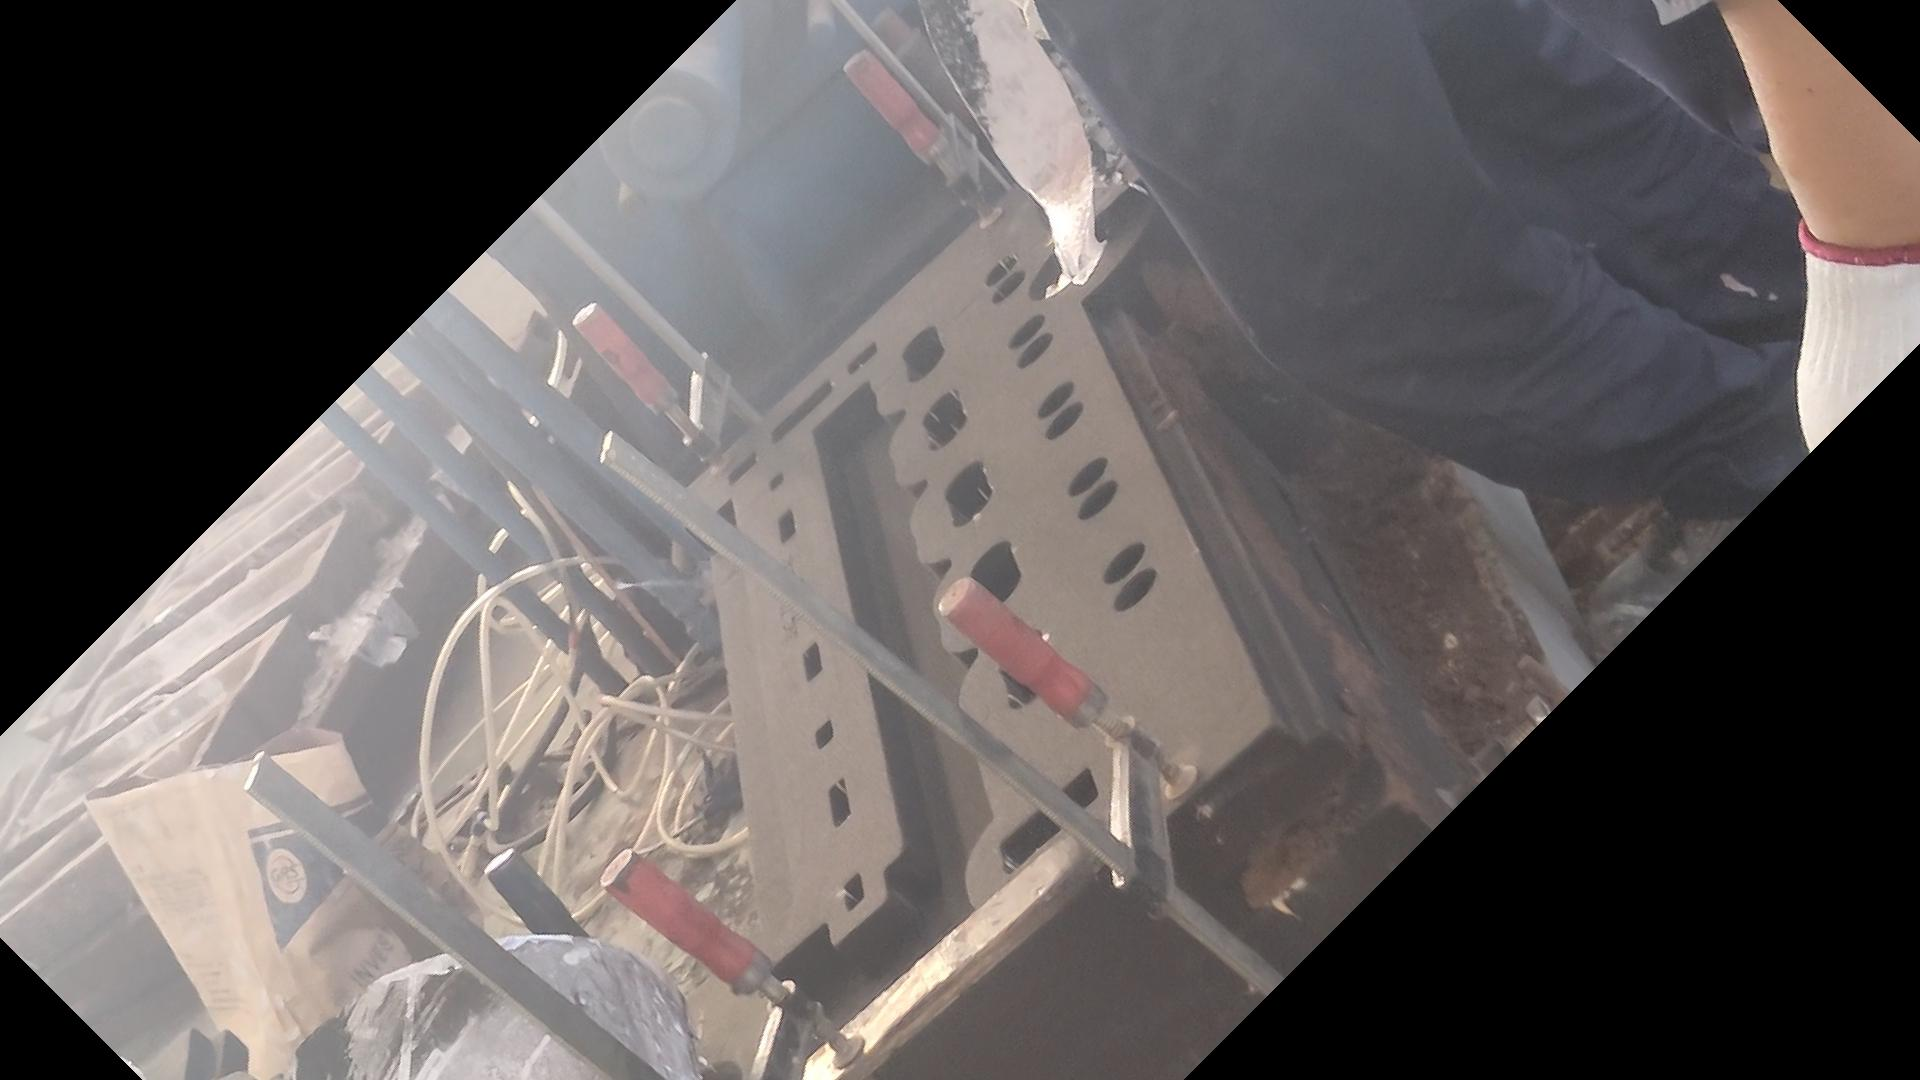pouring hole: (1029, 220, 1112, 299), (673, 1063, 744, 1080)
